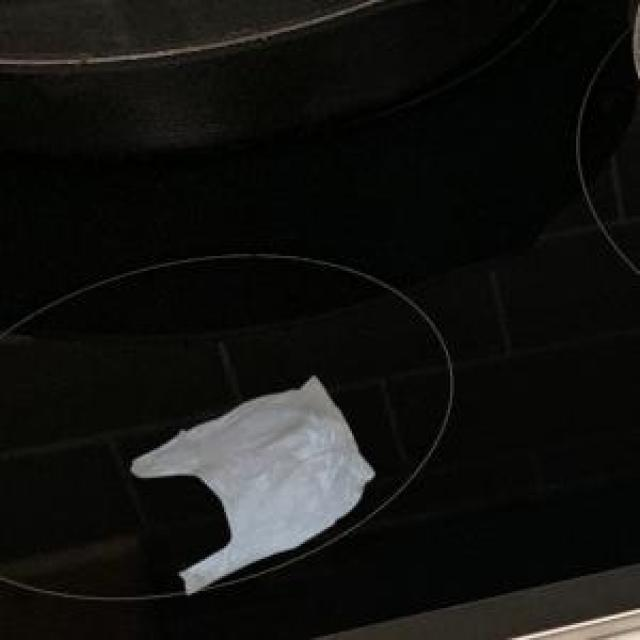waste: (132, 376, 375, 593)
